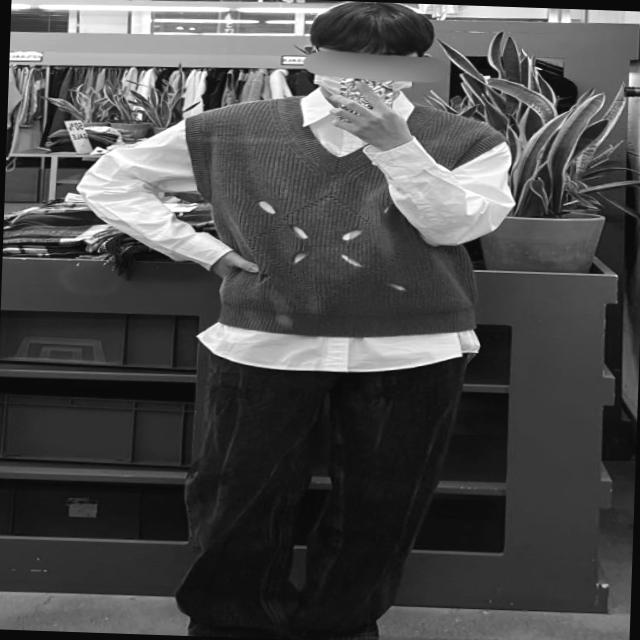denimpants: (167, 337, 462, 640)
